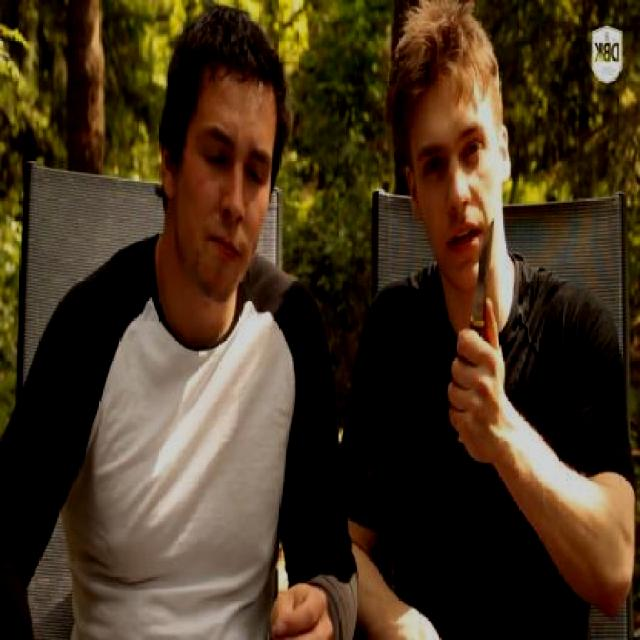knife: (442, 205, 512, 426)
